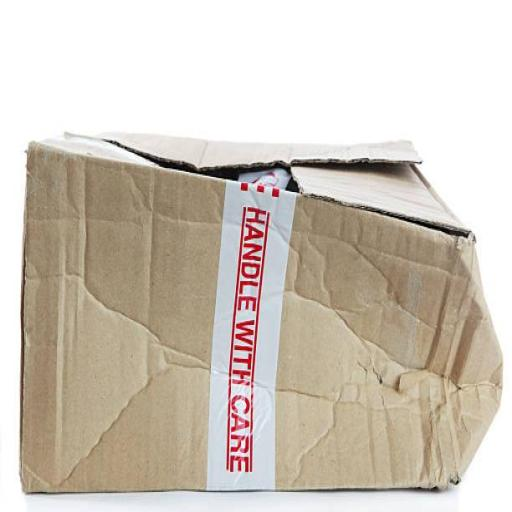cardboard: (18, 133, 503, 495)
